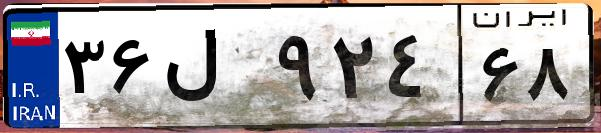2: (330, 28, 385, 110)
3: (57, 26, 110, 100)
4: (385, 28, 445, 110)
6: (475, 38, 525, 113), (110, 28, 158, 98)
8: (525, 38, 570, 115)
9: (270, 28, 330, 110)
ل: (158, 20, 270, 120)
